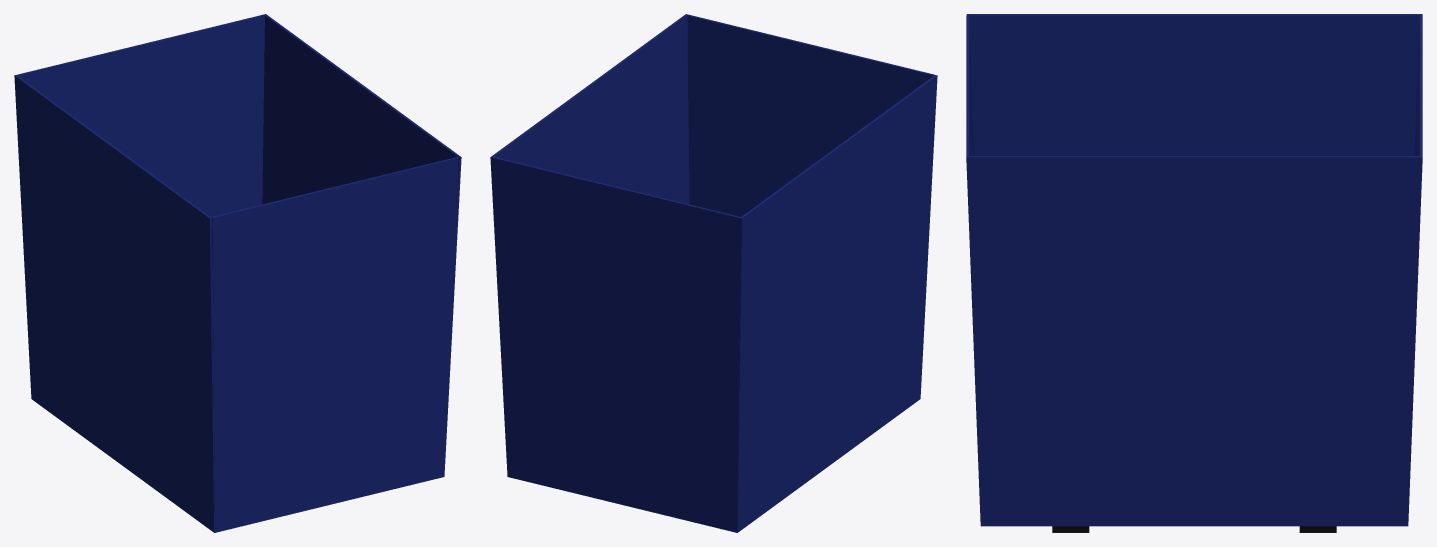
Rendered from blue_bin.obj.
The picture shows the model from 3 angles, left to right: view 1: azimuth 30°, elevation 25°; view 2: azimuth 150°, elevation 25°; view 3: azimuth 270°, elevation 25°; orthographic projection. The views are drawn at different scales.
Parts seen in each view (by area): view 1: blue_bin_Cube; view 2: blue_bin_Cube; view 3: blue_bin_Cube.
Boxes of the visible parts, left/top/right/bottom form: blue_bin_Cube: left=14, top=14, right=461, bottom=532; blue_bin_Cube: left=490, top=14, right=937, bottom=532; blue_bin_Cube: left=966, top=14, right=1422, bottom=532.
Bounding box in the file's own units: 0.2742 × 0.3645 × 0.3692.
